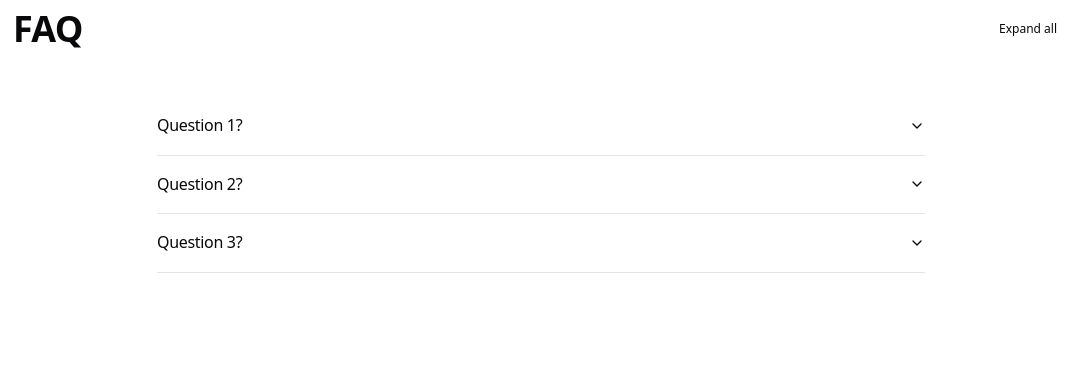
FAQ › allows multiple items to be open simultaneously
Click the button "Question 1?" at (200, 125), box [157,97,925,155]
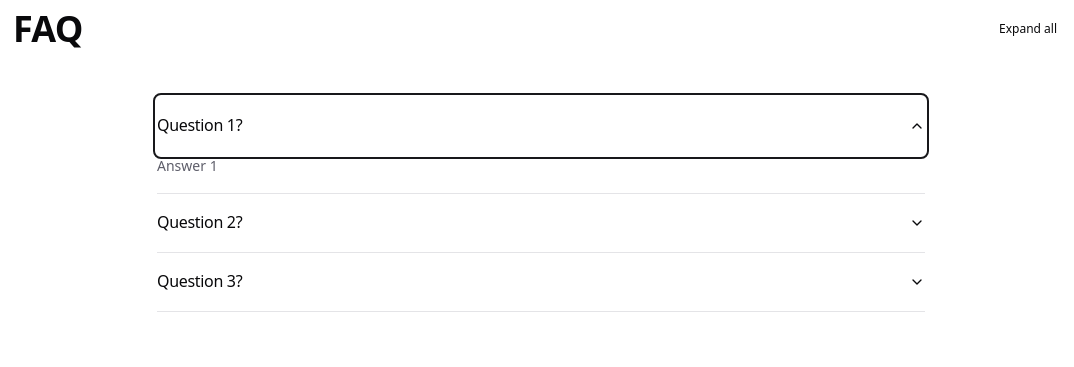
Click the button "Question 2?" at (200, 222), box [157,194,925,252]
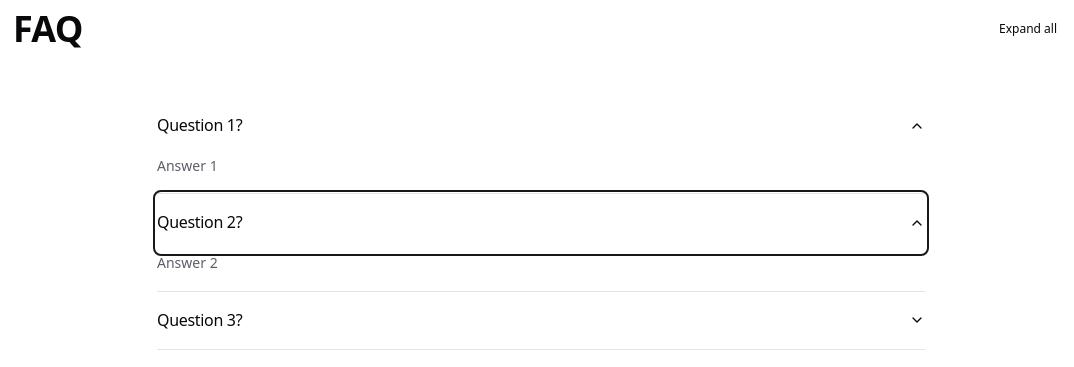
Expected: the text "Answer 1" is shown, [157,156,218,175]
Expected: the text "Answer 2" is shown, [157,253,218,272]
